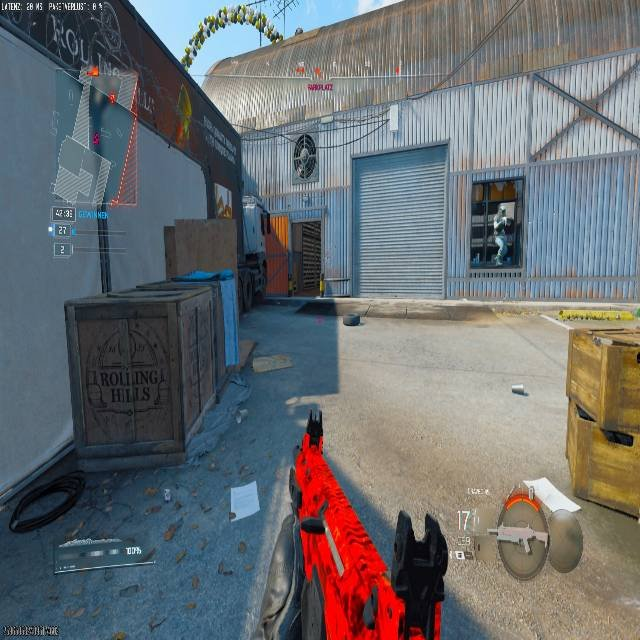head: (497, 205, 506, 216)
player: (471, 202, 519, 265), (239, 249, 267, 312), (293, 131, 318, 183), (491, 206, 513, 264)
